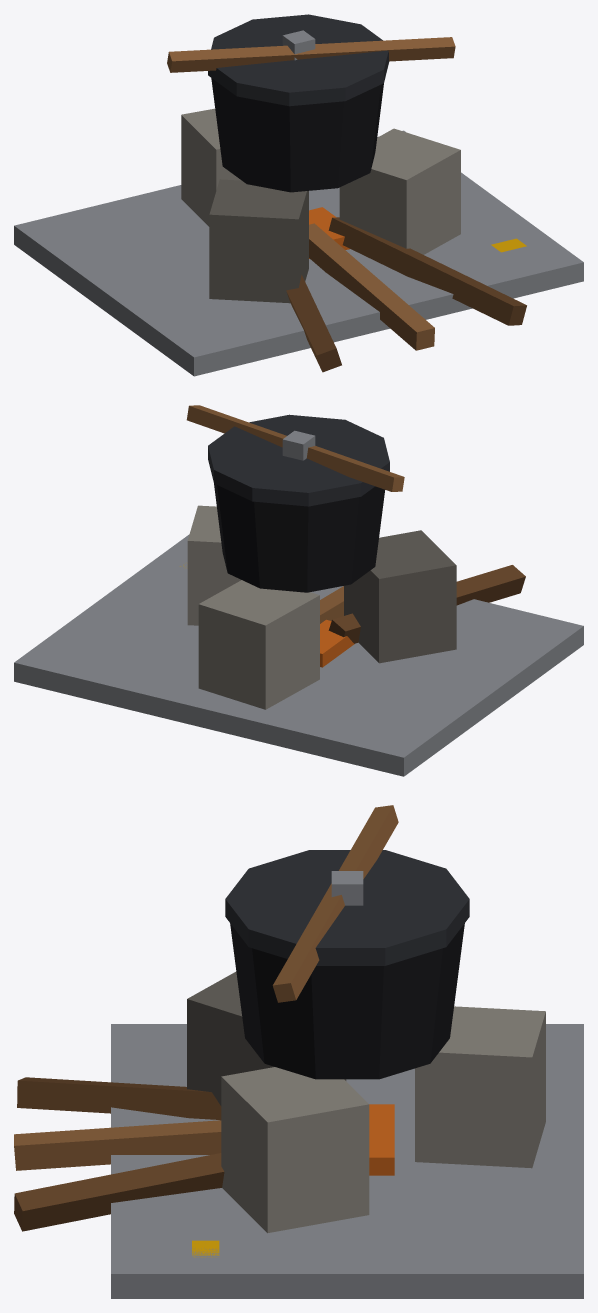
Rendered from prop_three-stones.glb.
3 views of the same model, one above another, from view 1: azimuth 30°, elevation 25°; view 2: azimuth 150°, elevation 25°; view 3: azimuth 270°, elevation 25° (orthographic). The views are drawn at different scales.
Parts seen in each view (by area): view 1: body; view 2: body; view 3: body.
Part boxes in pixels (x1=…): body: x1=14, y1=14, x2=583, y2=376; body: x1=14, y1=405, x2=583, y2=776; body: x1=14, y1=805, x2=583, y2=1298.
Bounding box in the file's own units: 0.75 × 0.4153 × 0.7231.
